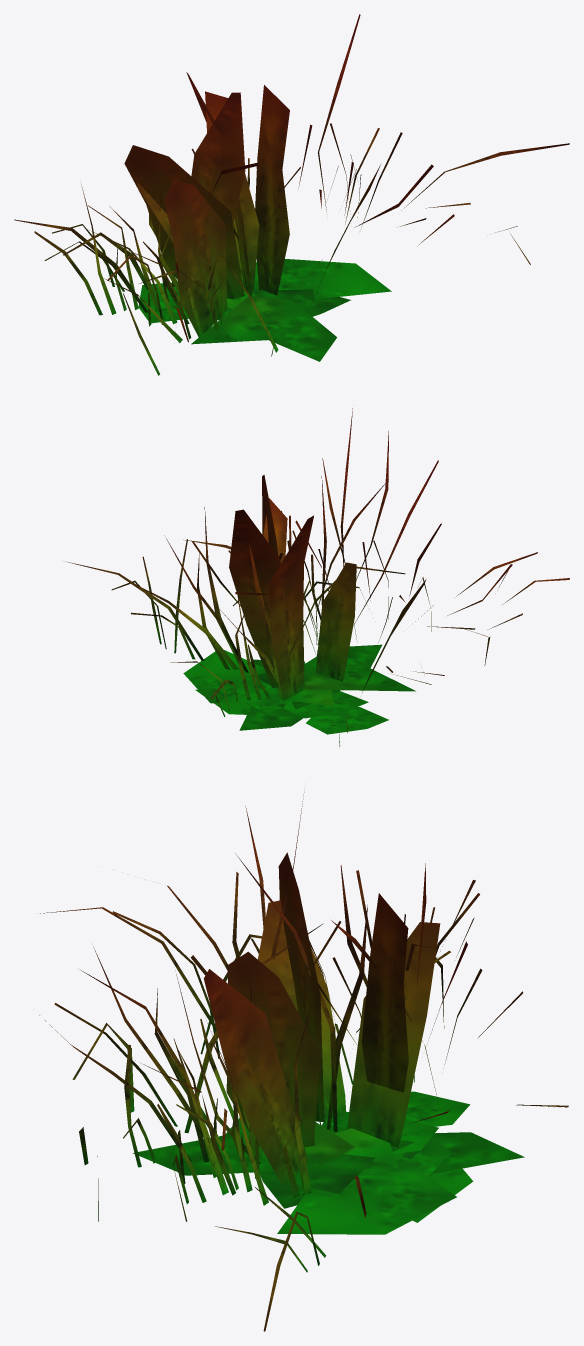
Rendered from Thatching Grass_LOD1_Var15_uddmcgbia.glb.
3 views of the same model, one above another, from view 1: azimuth 30°, elevation 25°; view 2: azimuth 150°, elevation 25°; view 3: azimuth 270°, elevation 25° (orthographic). The views are drawn at different scales.
Visible parts, largest first — view 1: _2b68_Var15_LOD1; view 2: _2b68_Var15_LOD1; view 3: _2b68_Var15_LOD1.
Part boxes in pixels (x1,y1,x2,y2): _2b68_Var15_LOD1: [14, 14, 569, 375]; _2b68_Var15_LOD1: [66, 408, 569, 747]; _2b68_Var15_LOD1: [39, 789, 568, 1331].
Size of the model in its own units: 0.1627 by 0.0706 by 0.1077.
1 material, 1 textured.
